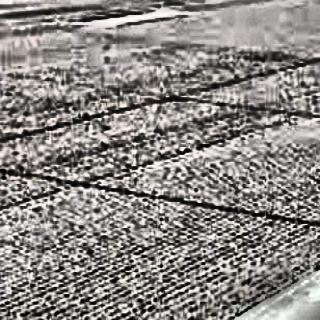crack: (0, 162, 320, 233), (1, 85, 175, 147), (176, 50, 319, 96), (176, 94, 318, 124)
pothole: (76, 3, 196, 30)
